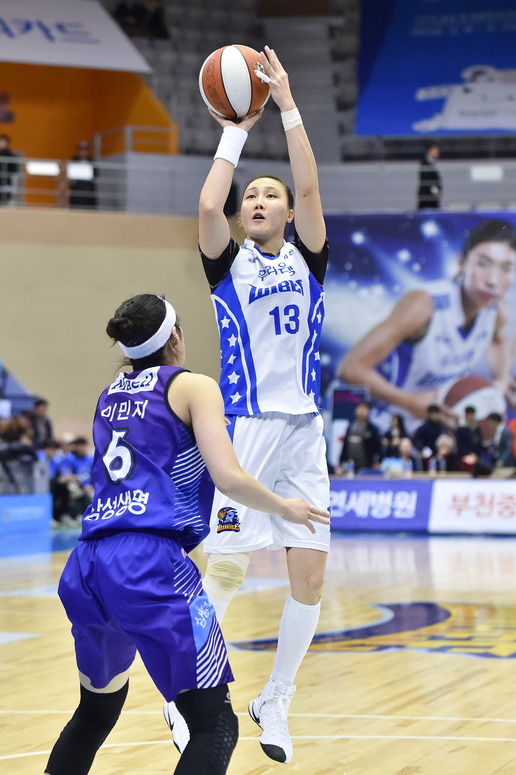ball: (191, 34, 278, 132)
defense: (68, 293, 260, 775)
shoot: (185, 36, 357, 639)
